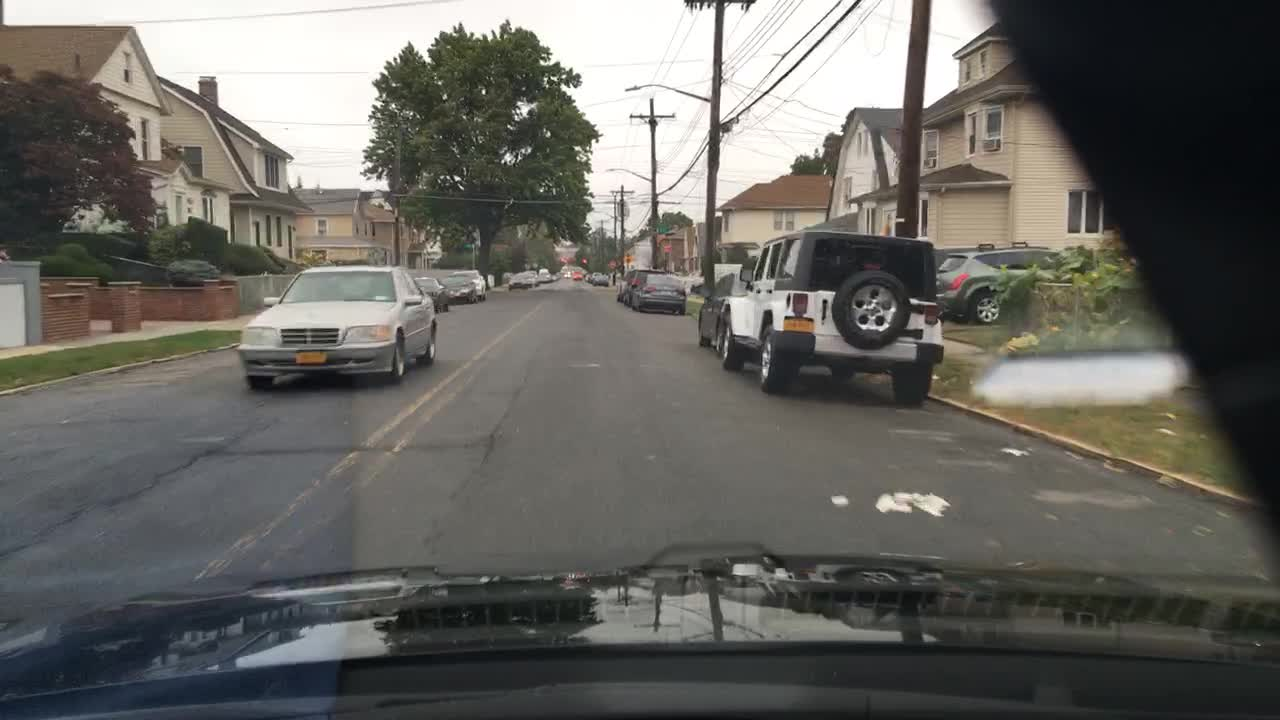car: (720, 229, 945, 407), (238, 264, 439, 391), (934, 248, 1057, 327), (697, 271, 749, 353), (629, 271, 688, 317), (622, 268, 666, 309), (412, 275, 452, 314), (436, 274, 477, 306), (452, 268, 487, 303), (933, 247, 979, 268), (615, 270, 633, 303), (508, 272, 530, 291), (525, 270, 541, 288), (537, 267, 552, 284), (598, 273, 610, 289), (590, 271, 602, 286), (572, 268, 583, 283), (583, 271, 592, 283), (551, 270, 561, 280), (563, 270, 572, 280)
traffic light: (582, 254, 588, 268)
traffic sign: (654, 223, 668, 234), (623, 252, 634, 263), (607, 258, 617, 270), (463, 239, 473, 250), (661, 244, 673, 252)
